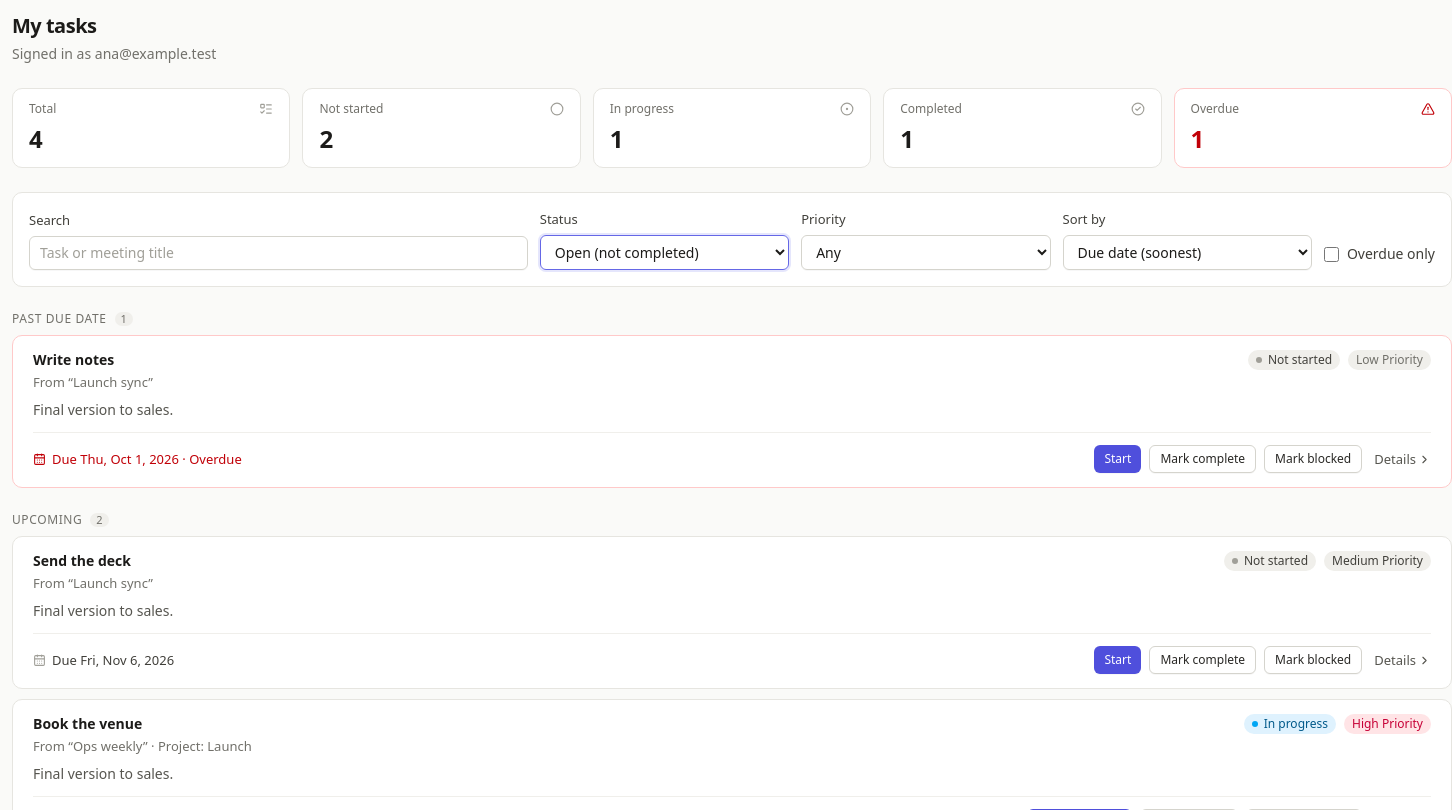
employee dashboard › filters by status, priority, overdue and search, and sorts
Earlier steps of the test are not shown.
Later steps or results of the test are not shown.
Select "High" in the dropdown labelled "Priority" at (926, 252), box [801,235,1050,270]
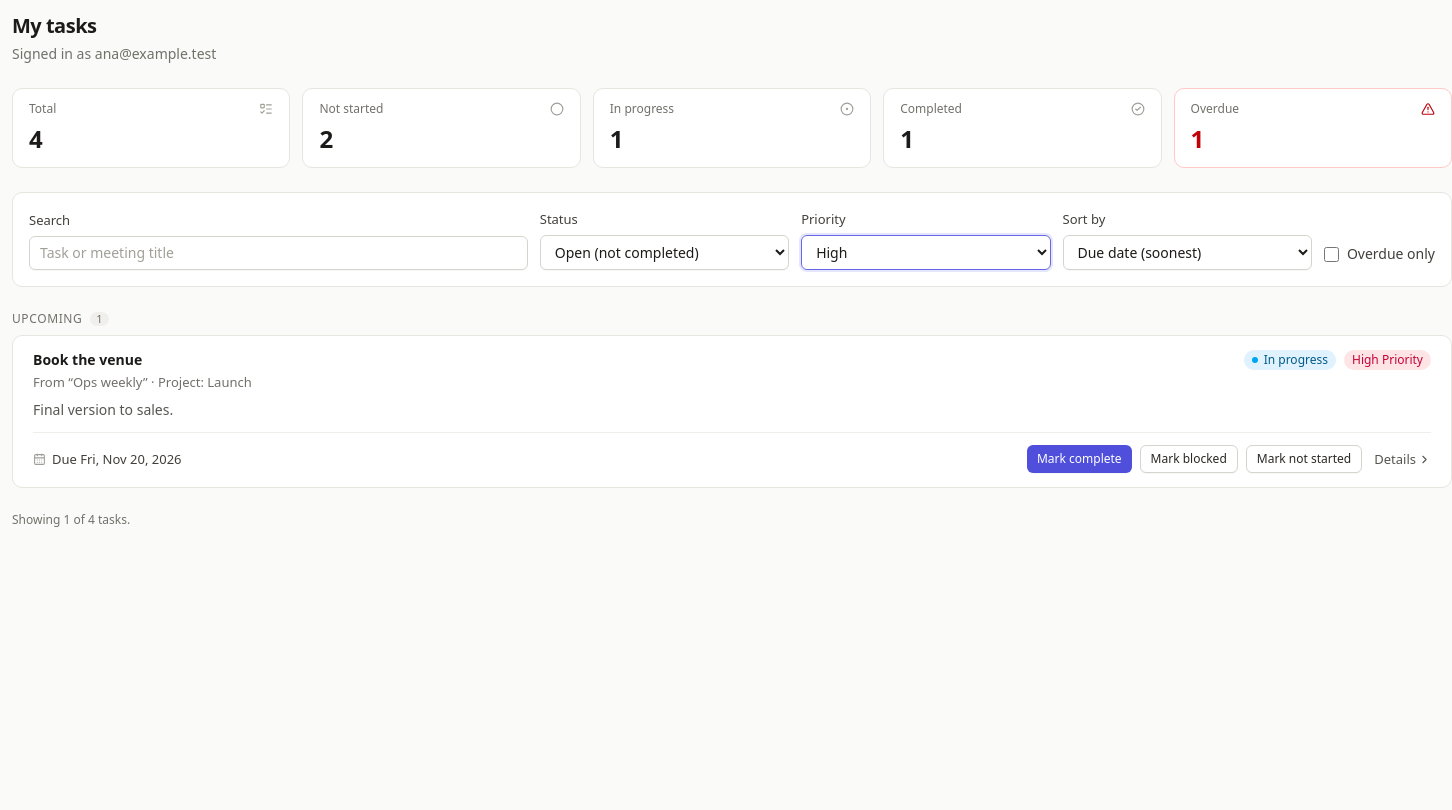
Select "Any" in the dropdown labelled "Priority" at (926, 252), box [801,235,1050,270]
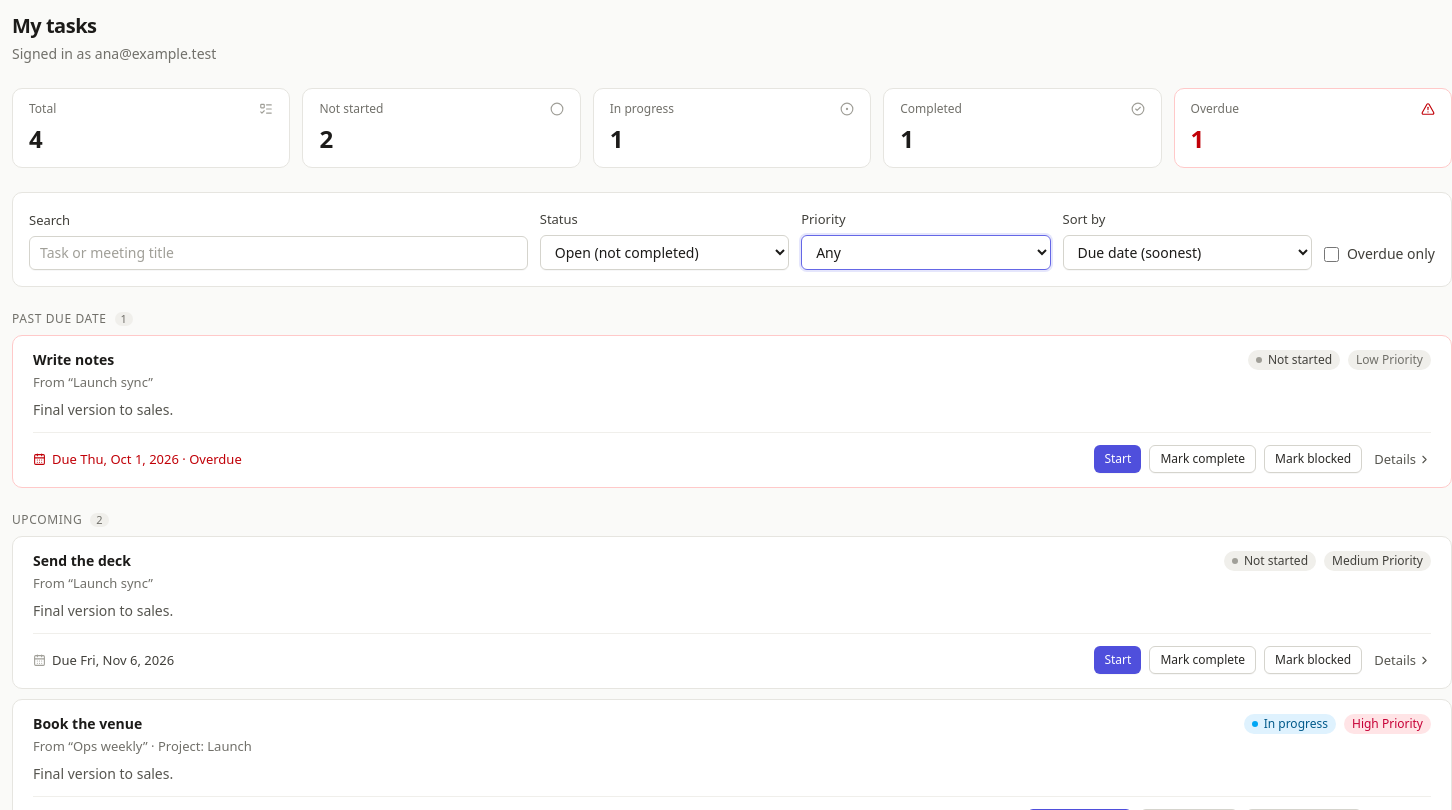
Click the checkbox labelled "Overdue only" at (1331, 254), box [1324,246,1339,262]
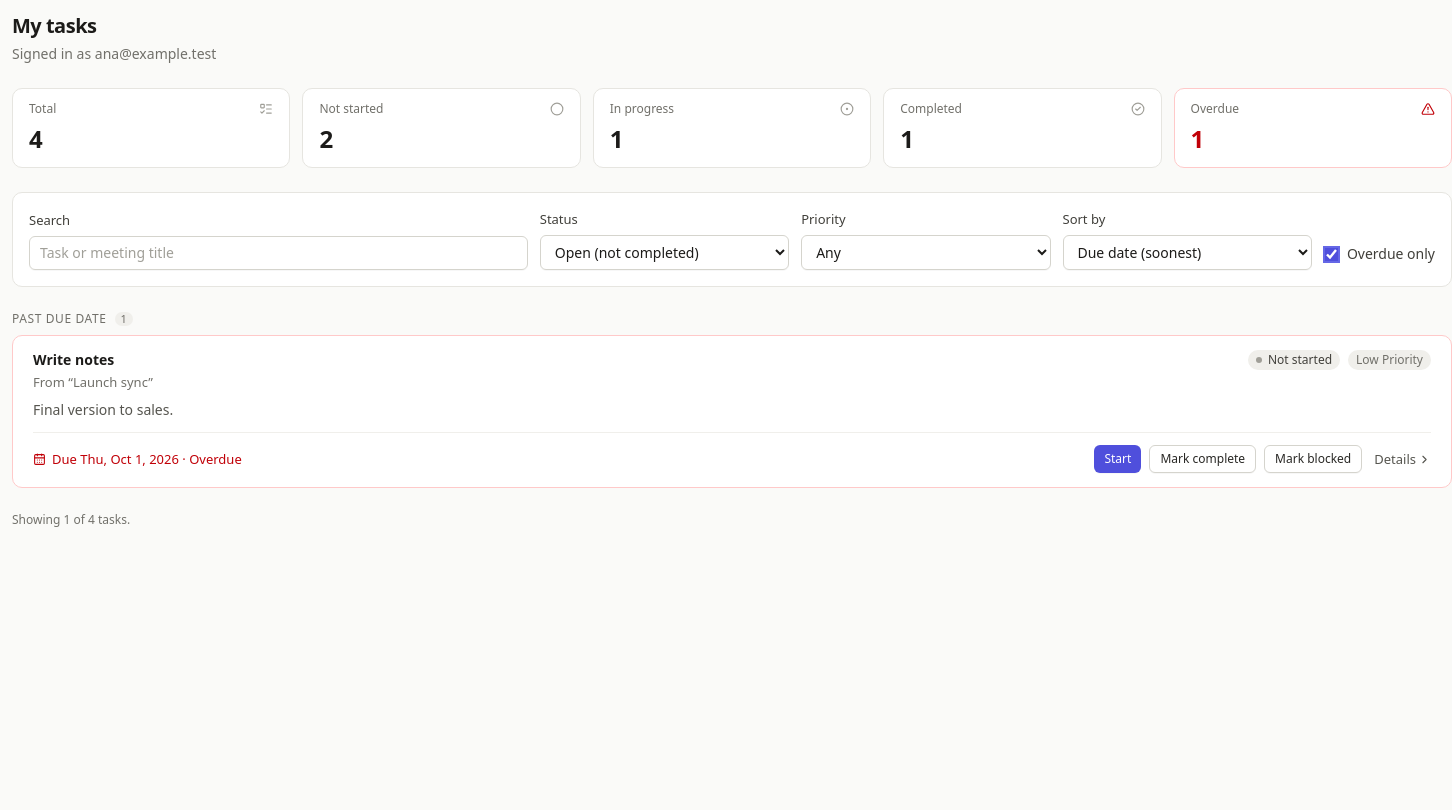
Click the checkbox labelled "Overdue only" at (1331, 254), box [1324,246,1339,262]
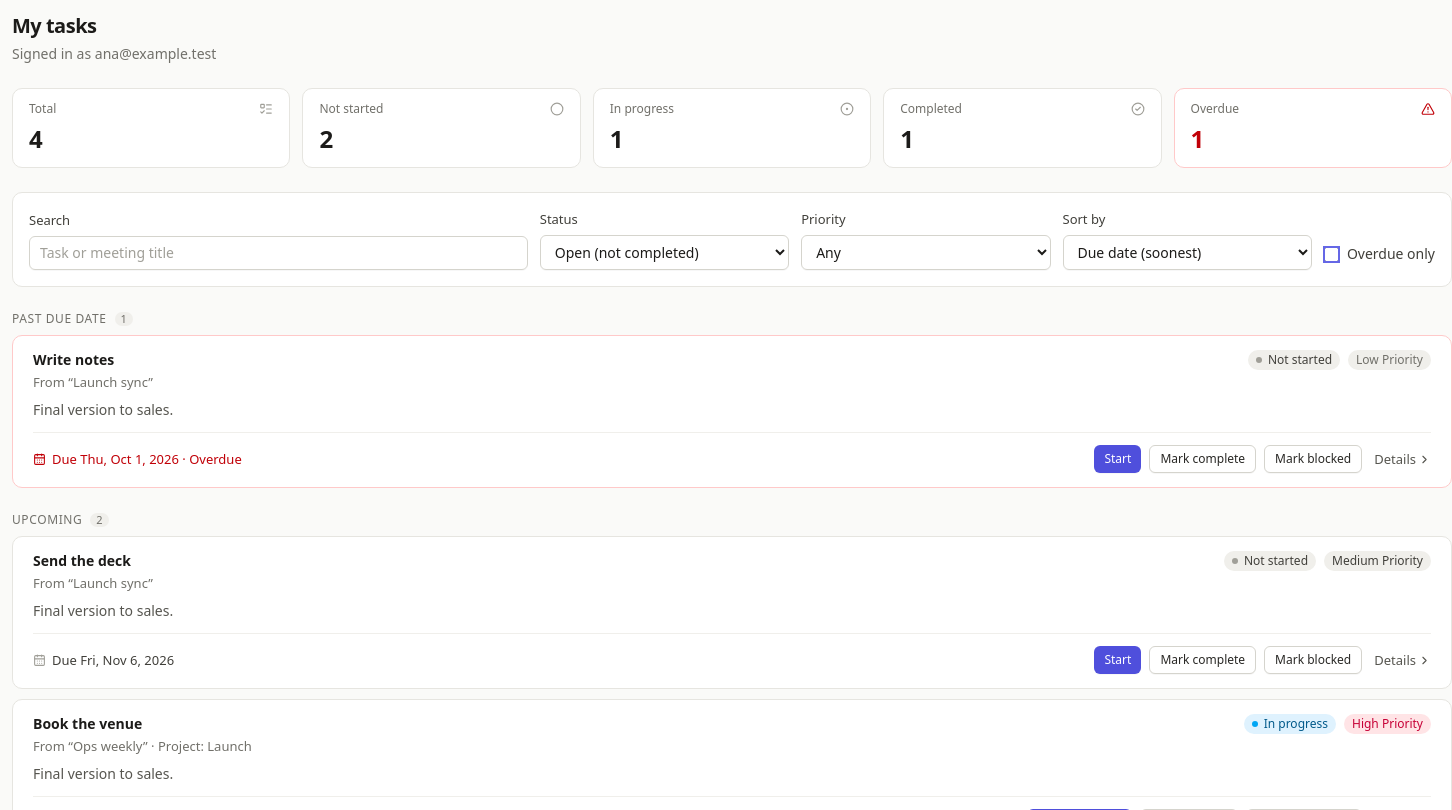
Type "ops weekly" into the search field labelled "Search" at (278, 253), box [29,236,528,270]
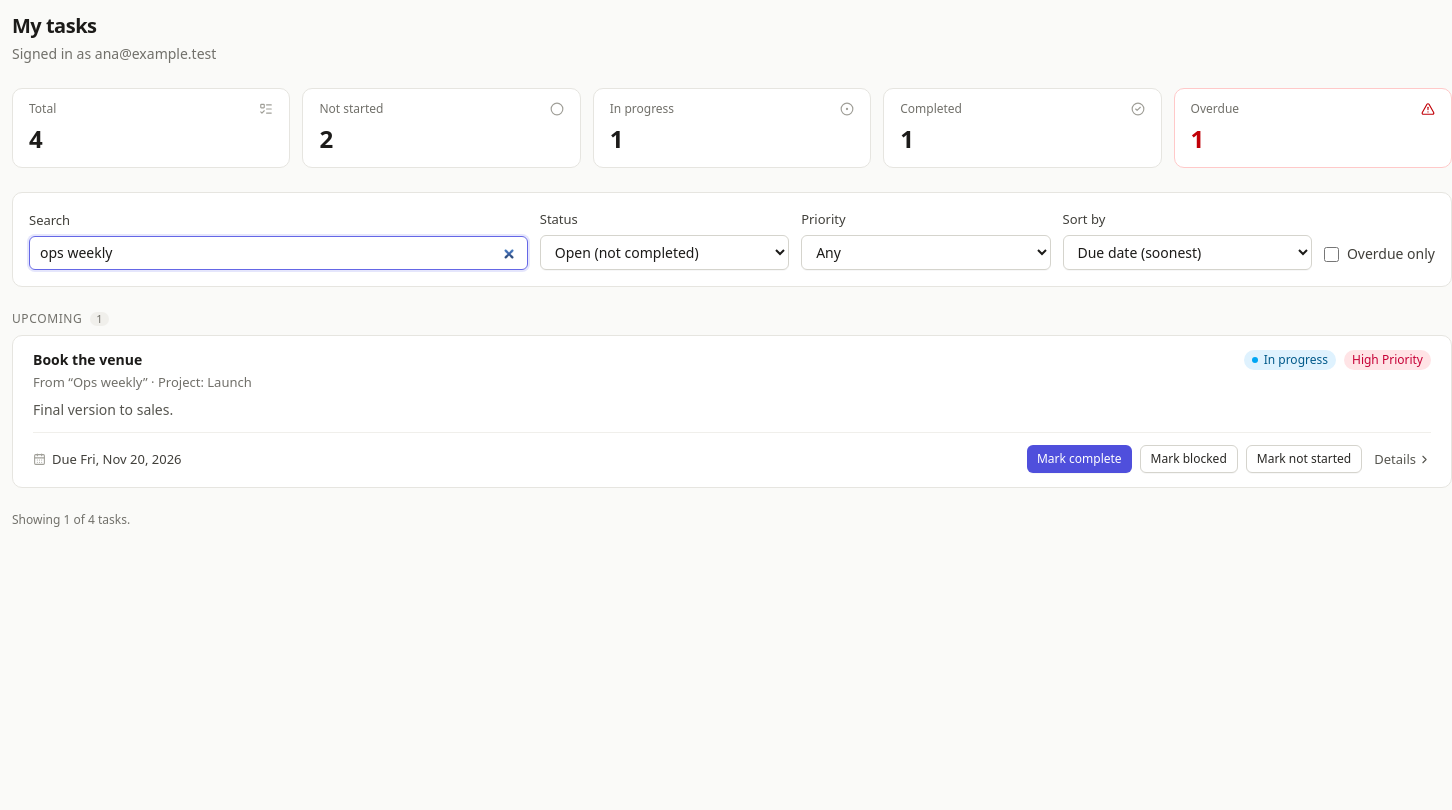
Replace the text in the search field labelled "Search" with "nothing like this" at (278, 253), box [29,236,528,270]
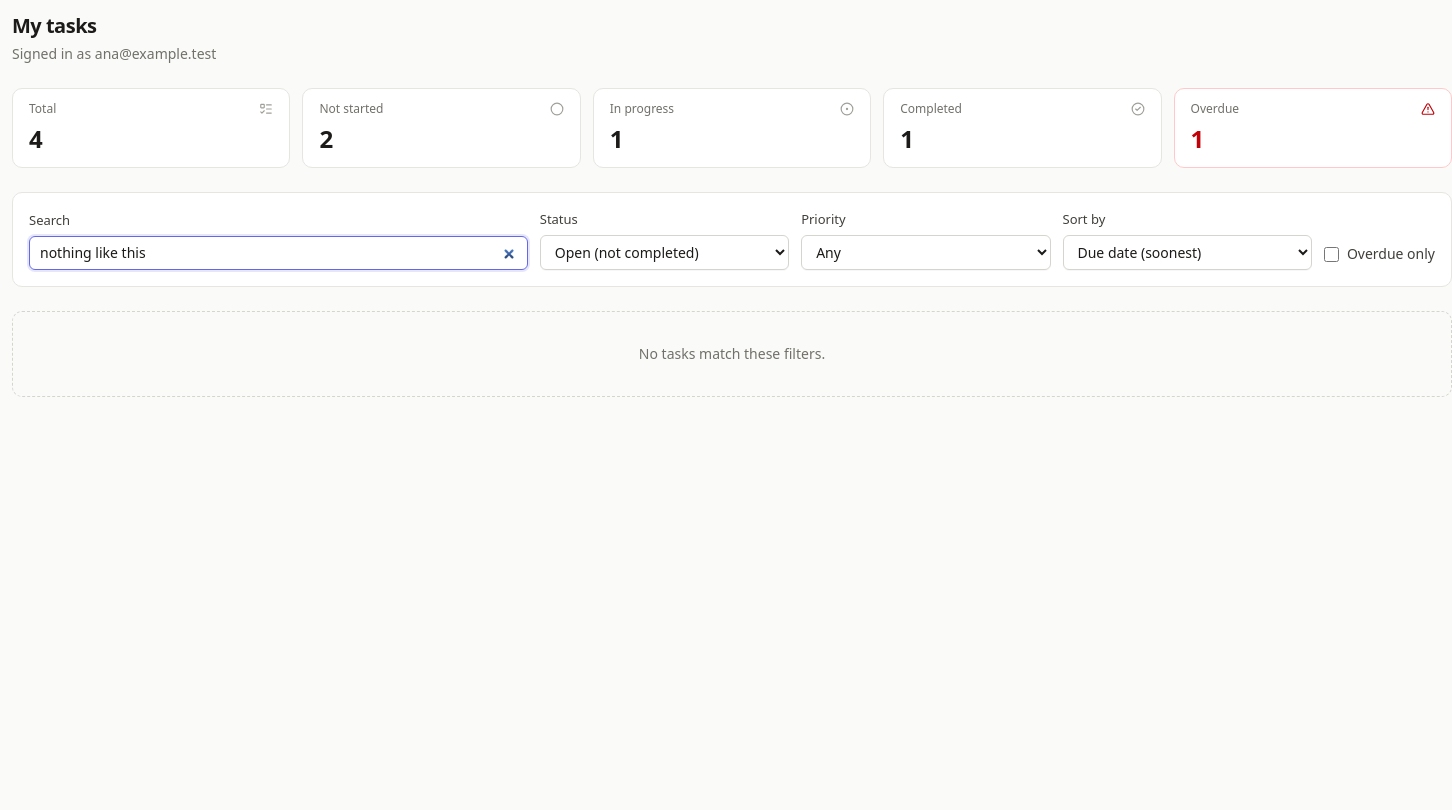
Expected: the text "No tasks match these filters." is shown, [12,311,1451,397]
